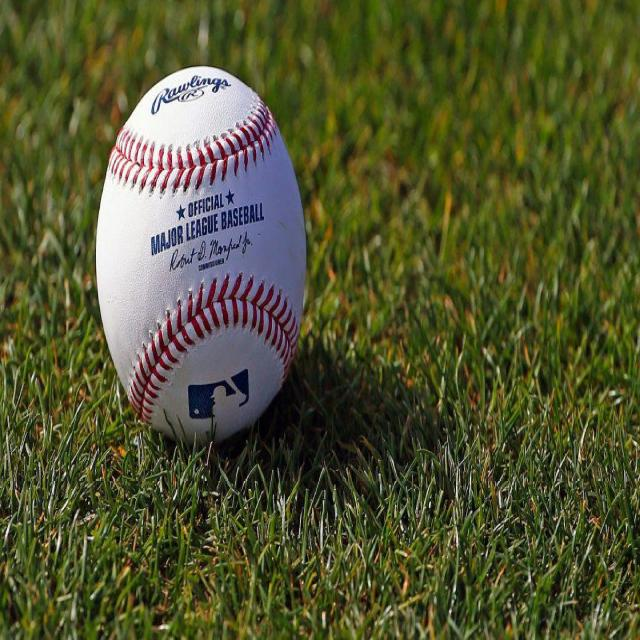baseball: (95, 63, 308, 442)
